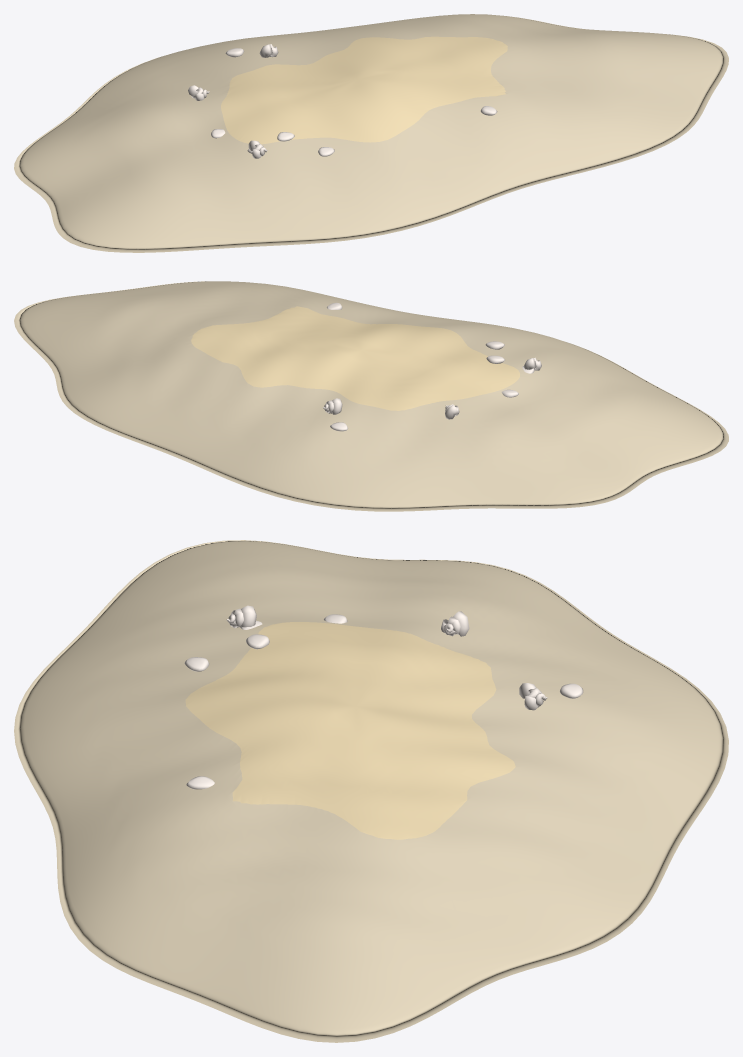
File: SharkBaitSandBar.glb
3 views of the same model, one above another, from view 1: azimuth 30°, elevation 25°; view 2: azimuth 150°, elevation 25°; view 3: azimuth 270°, elevation 25° (orthographic). The views are drawn at different scales.
Visible parts, largest first — view 1: WetSand, Sand, Shells; view 2: WetSand, Sand, Shells; view 3: WetSand, Sand, Shells.
Boxes of the visible parts, x1=… form: WetSand: x1=14, y1=14, x2=728, y2=252; Sand: x1=221, y1=36, x2=507, y2=144; Shells: x1=188, y1=44, x2=497, y2=158; WetSand: x1=14, y1=281, x2=728, y2=511; Sand: x1=191, y1=306, x2=519, y2=410; Shells: x1=323, y1=302, x2=541, y2=431; WetSand: x1=14, y1=540, x2=728, y2=1042; Sand: x1=185, y1=622, x2=515, y2=839; Shells: x1=184, y1=605, x2=583, y2=789.
Size of the model in its own units: 41.47 by 3 by 24.92.
